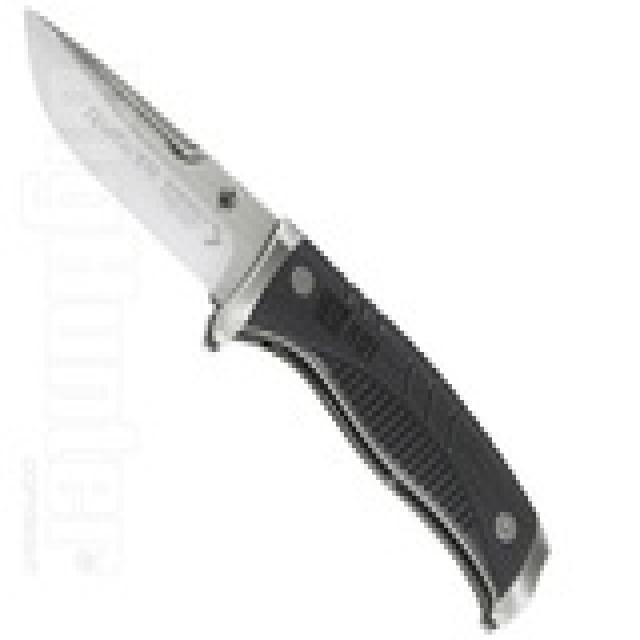knife: (20, 4, 561, 632)
